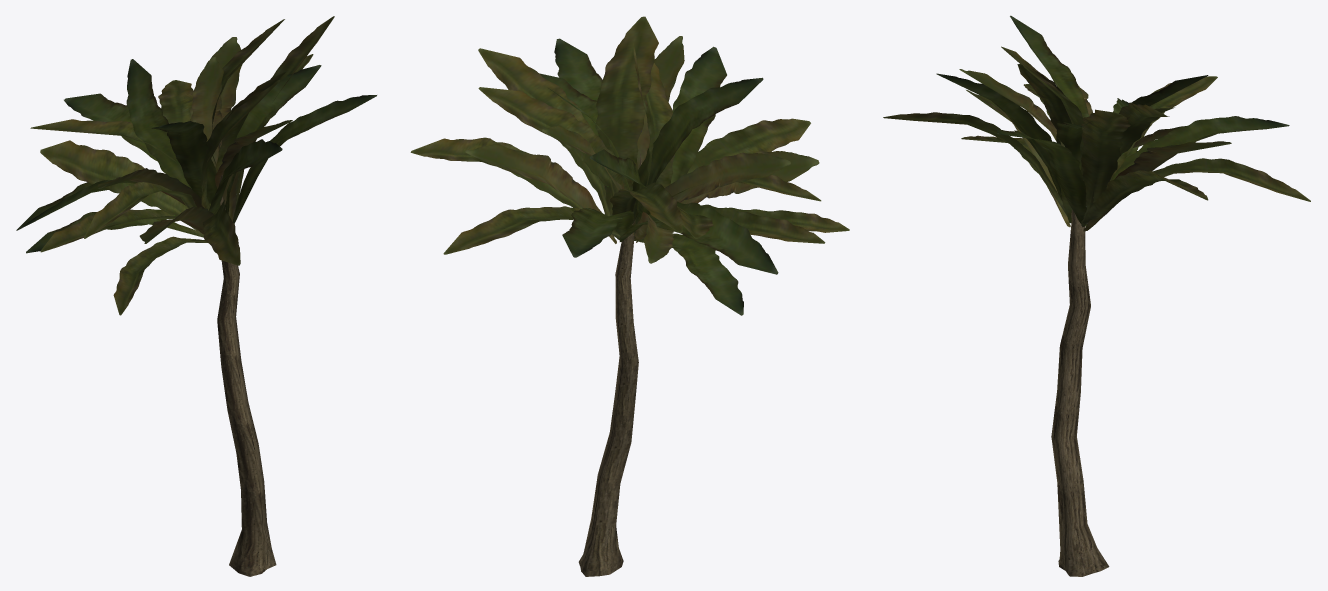
Rendered from palm2.glb.
3 renders of one model, left to right at view 1: azimuth 30°, elevation 25°; view 2: azimuth 150°, elevation 25°; view 3: azimuth 270°, elevation 25°, orthographic.
Parts seen in each view (by area): view 1: Palm2; view 2: Palm2; view 3: Palm2.
Boxes of the visible parts, box(x1,y1,x2,y2) form: Palm2: box(16, 16, 376, 576); Palm2: box(410, 16, 849, 576); Palm2: box(883, 15, 1310, 576).
Bounding box in the file's own units: 8.5 × 12.26 × 9.28.
2 materials, 2 textured.
